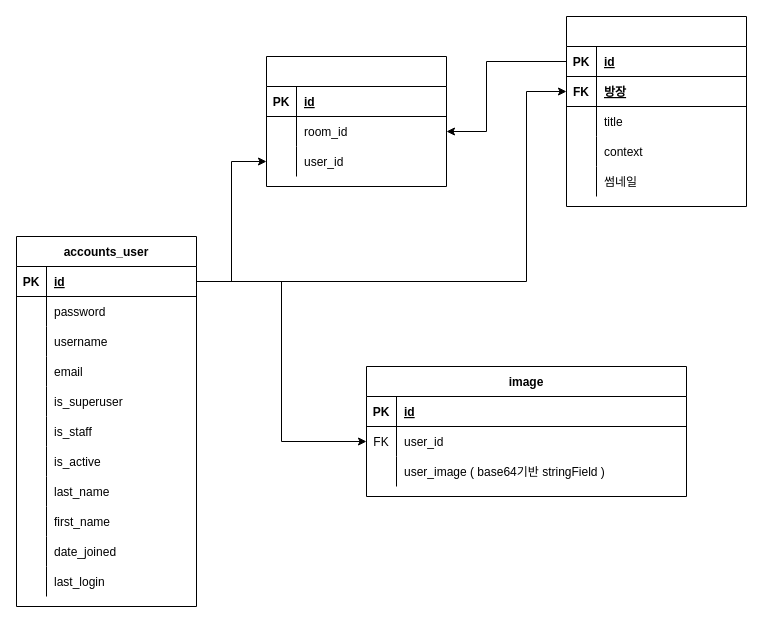
Image size: 763x623. Some labels were removed from this diagram. The box of each missing label's shape, as (x1, y1, x2, y2) in pixels:
Current Status: (266, 56, 446, 186)
Room: (566, 16, 746, 206)
